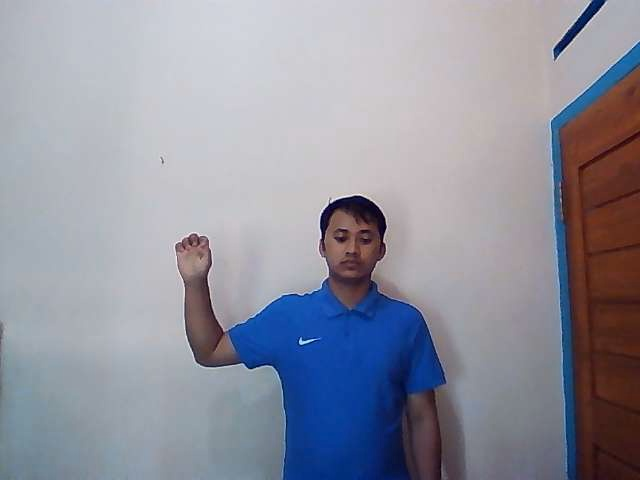E: (174, 233, 214, 281)
